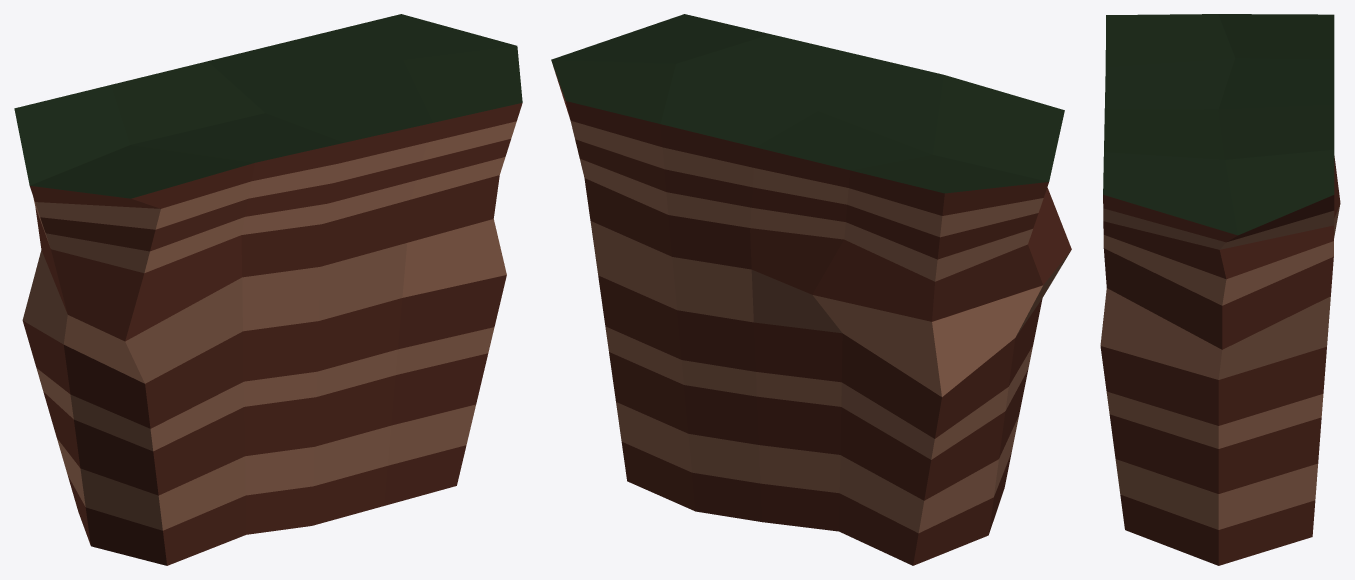
The model's file is chao4.fbx.
3 renders of one model, left to right at view 1: azimuth 30°, elevation 25°; view 2: azimuth 150°, elevation 25°; view 3: azimuth 270°, elevation 25°, orthographic. The views are drawn at different scales.
Visible parts, largest first — view 1: Cube.001; view 2: Cube.001; view 3: Cube.001.
Part boxes in pixels (box(x1,y1,x2,y2)): Cube.001: box(14, 14, 522, 565); Cube.001: box(551, 14, 1071, 565); Cube.001: box(1100, 14, 1340, 565).
Size of the model in its own units: 927 by 734 by 406.
